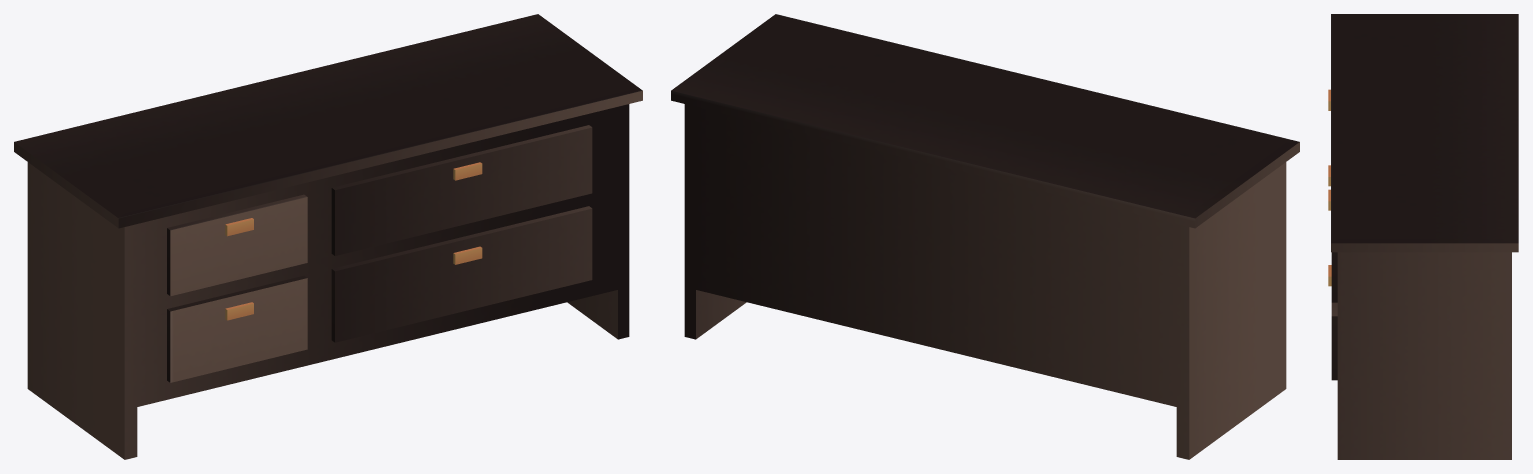
The model's file is draws_bedroom.fbx.
3 views of the same model, side by side, from view 1: azimuth 30°, elevation 25°; view 2: azimuth 150°, elevation 25°; view 3: azimuth 270°, elevation 25° (orthographic). The views are drawn at different scales.
Parts seen in each view (by area): view 1: Box001; view 2: Box001; view 3: Box001.
Part boxes in pixels (box(x1,y1,x2,y2)): Box001: box(14, 14, 642, 459); Box001: box(671, 14, 1299, 459); Box001: box(1331, 14, 1518, 459).
Bounding box in the file's own units: 1.56 × 0.7005 × 0.5466.
